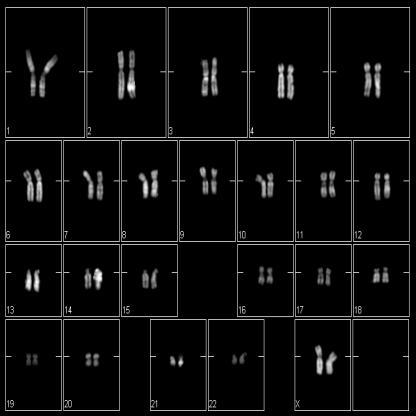1: (38, 51, 58, 96), (23, 47, 36, 96)
10: (255, 170, 266, 200), (266, 170, 275, 198)
11: (328, 169, 336, 197), (320, 170, 327, 198)
12: (374, 171, 382, 202), (384, 170, 392, 201)
13: (34, 268, 40, 296), (24, 268, 30, 289)
14: (83, 267, 92, 290), (94, 266, 103, 289)
15: (140, 266, 149, 289), (150, 266, 159, 289)
16: (258, 266, 266, 286), (266, 265, 274, 285)
17: (314, 263, 322, 283), (324, 266, 332, 284)
18: (381, 264, 390, 284), (372, 266, 380, 282)
19: (31, 352, 40, 366), (24, 352, 31, 367)
2: (126, 48, 136, 102), (118, 48, 126, 102)
20: (84, 351, 92, 369), (93, 350, 101, 368)
21: (168, 354, 176, 368), (177, 354, 185, 368)
22: (239, 352, 247, 366), (231, 350, 238, 365)
3: (200, 58, 210, 98), (210, 56, 220, 96)
4: (277, 60, 286, 98), (286, 63, 295, 99)
5: (373, 62, 382, 98), (364, 60, 372, 99)
6: (22, 167, 36, 202), (34, 166, 44, 202)
7: (95, 169, 107, 200), (82, 168, 94, 198)
8: (138, 170, 148, 198), (150, 170, 160, 198)
9: (198, 166, 210, 195), (210, 165, 219, 195)
X: (312, 343, 324, 375), (325, 350, 337, 376)
